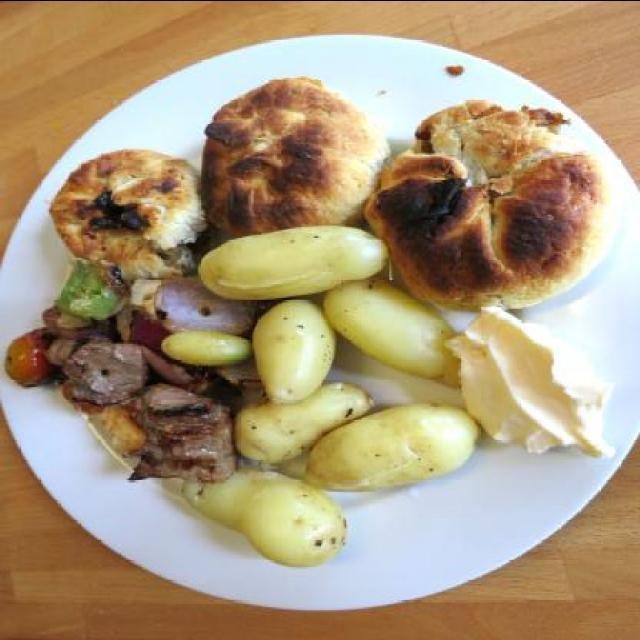Potato: (178, 223, 466, 566), (305, 398, 487, 494)
